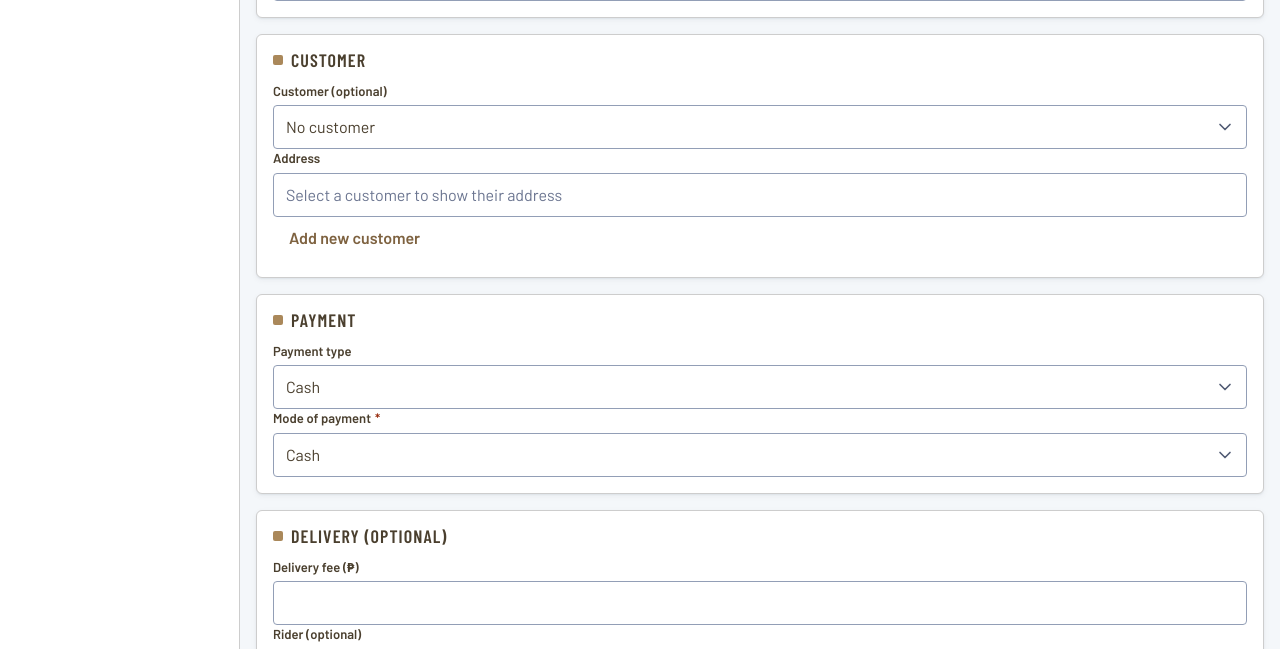
Scenario: SaleCartPage › reveals mode of payment only when a charge down payment is entered (DEC-045)
(page scrolled)
Select "Charge" in the dropdown labelled "Payment type". click: (760, 387)
box: [273,365,1247,409]
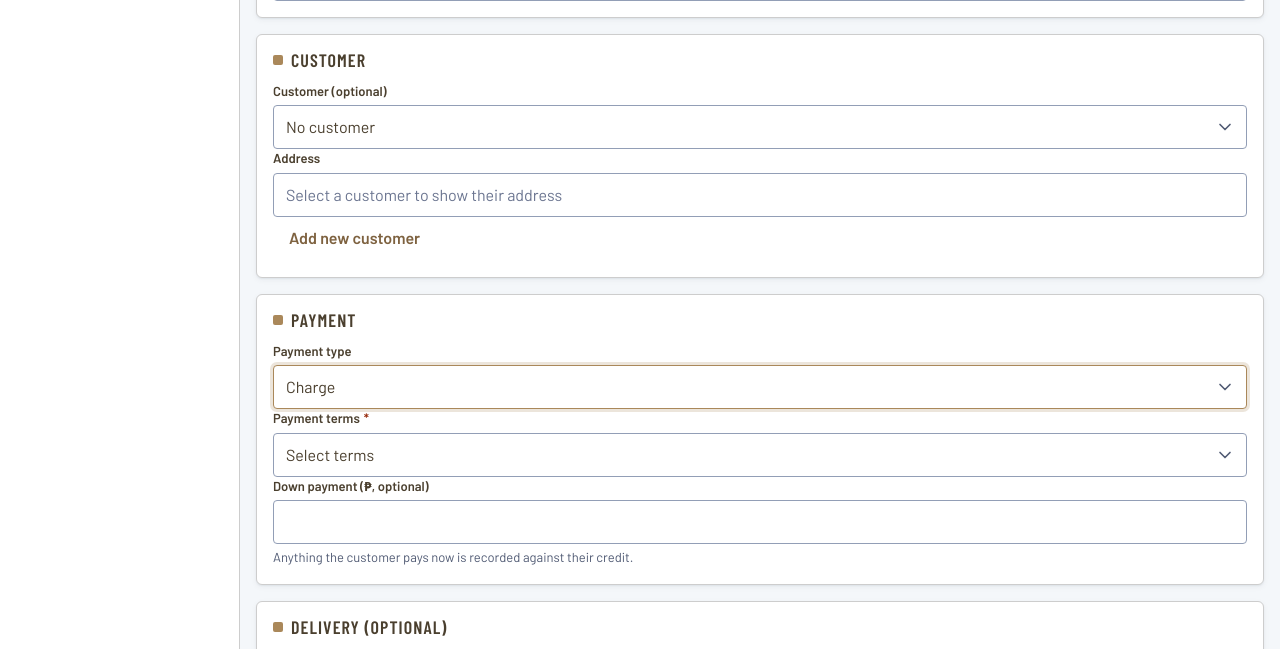
Expected: the label labelled "Mode of payment" is gone
Type "100" into the number field labelled "Down payment (₱, optional)". click: (760, 522)
box: [273,500,1247,544]
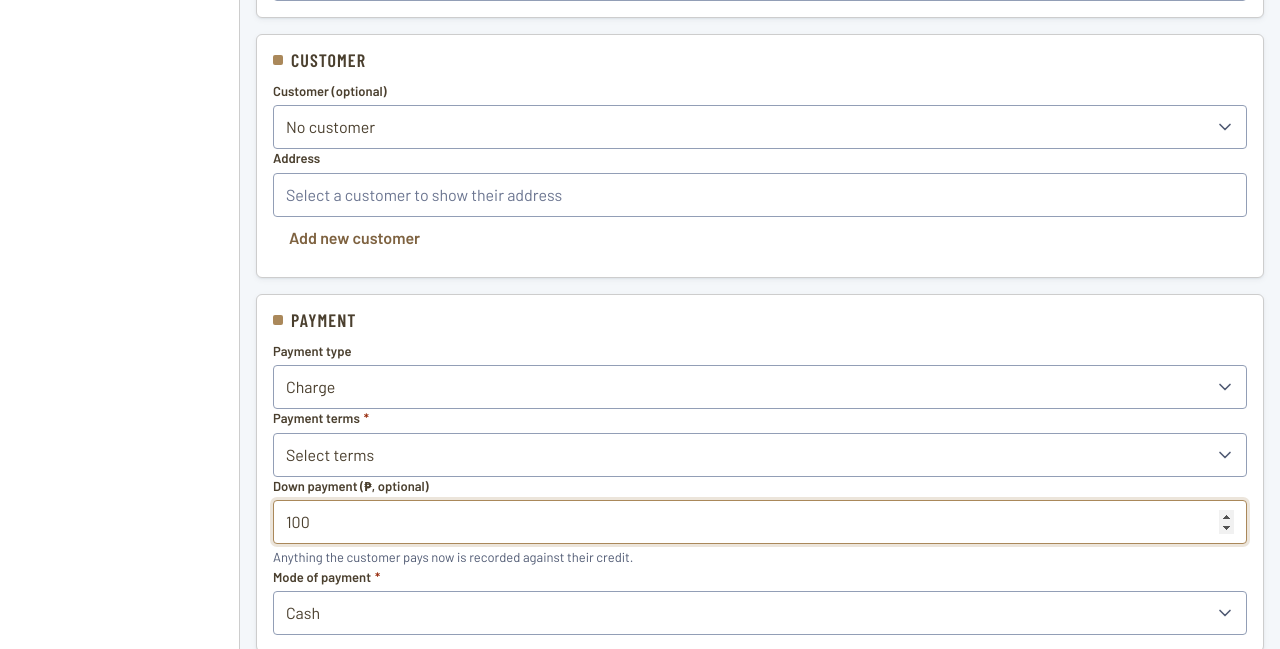
Expected: the dropdown labelled "Mode of payment*" is shown, [273,591,1247,635]
